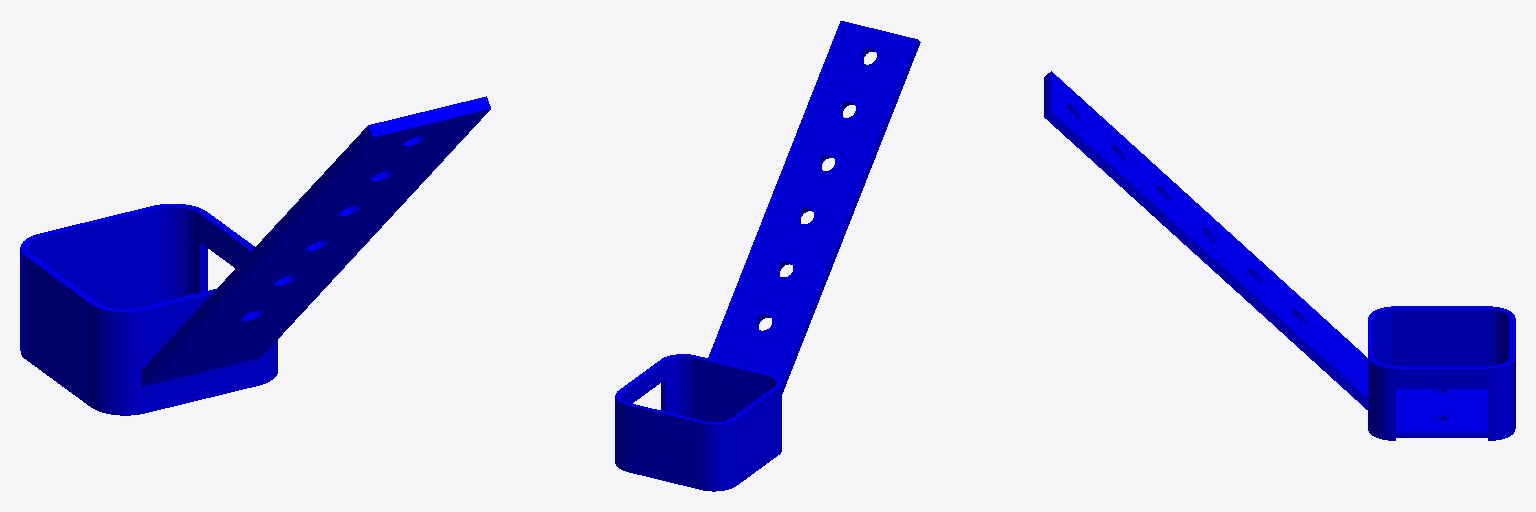
URDF robot description (side_mount):
<?xml version="1.0"?>
<robot name="side_mount">
    <link name="side_mount">
        <visual>
            <origin xyz="0 0 0 " rpy=" 0 0 0"/>
            <geometry>
                <mesh filename="./side_mount.stl"/>
            </geometry>
            <material name="red">
                <color rgba="0.0 0.0 1.0 1.0"/>
            </material>
        </visual>
        <collision>
            <origin xyz="0 0 0" rpy="0 0 0"/>
            <geometry>
                <mesh filename="./side_mount.stl"/>
            </geometry>
        </collision>
    </link>
</robot>

--- What the picture shows (computed from the rendered views, not written in the file) ---
Views: 3 orthographic renders of the robot side by side, from view 1: azimuth 30°, elevation 25°; view 2: azimuth 150°, elevation 25°; view 3: azimuth 270°, elevation 25°.
Model side_mount with 1 links and 0 joints (none), rooted at side_mount, posed every joint at zero.
Visible links, largest first — view 1: side_mount; view 2: side_mount; view 3: side_mount.
Boxes of the visible links, <box> form: side_mount: <box>20,96,490,415</box>; side_mount: <box>615,21,920,491</box>; side_mount: <box>1044,71,1515,440</box>.
Bounding box of the posed robot: 46 × 147 × 110 m (x, y, z).
Meshes: 1 distinct files referenced, 1 mesh visuals loaded (1 ASCII STL).